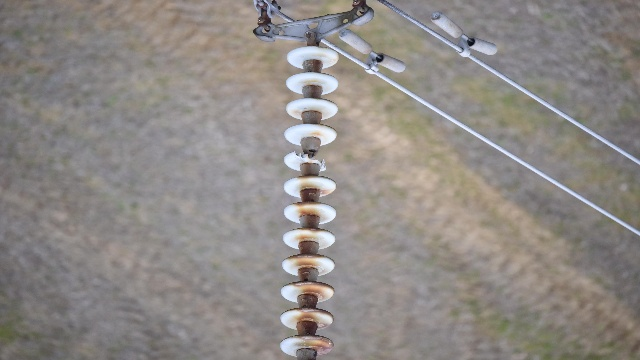broken_local: (292, 150, 328, 171)
insulator_unspecified: (278, 45, 338, 354)
pollution_flashover_local: (299, 333, 333, 354), (294, 279, 323, 301), (301, 314, 323, 329)
